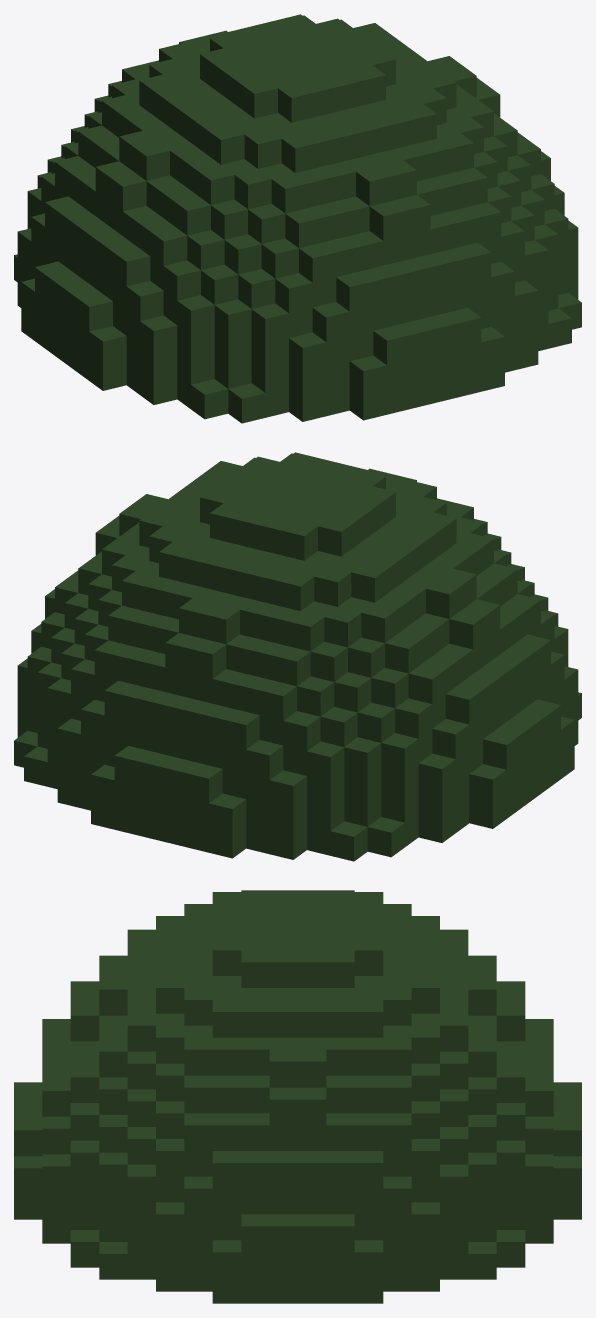
Rendered from Smallbush.obj.
3 renders of one model, top to bottom at view 1: azimuth 30°, elevation 25°; view 2: azimuth 150°, elevation 25°; view 3: azimuth 270°, elevation 25°, orthographic. The views are drawn at different scales.
Visible parts, largest first — view 1: Smallbush; view 2: Smallbush; view 3: Smallbush.
Boxes of the visible parts, x1=… form: Smallbush: x1=14, y1=14, x2=581, y2=423; Smallbush: x1=14, y1=452, x2=581, y2=861; Smallbush: x1=14, y1=890, x2=581, y2=1303.
Bounding box in the file's own units: 20 × 10 × 20.
Materials: 1 (1 with a texture image).
